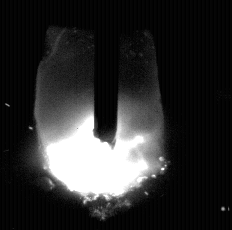arame: (95, 0, 119, 149)
poca: (37, 0, 164, 230)
